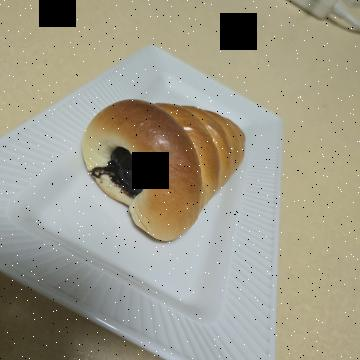cream horn: (82, 116, 258, 294)
